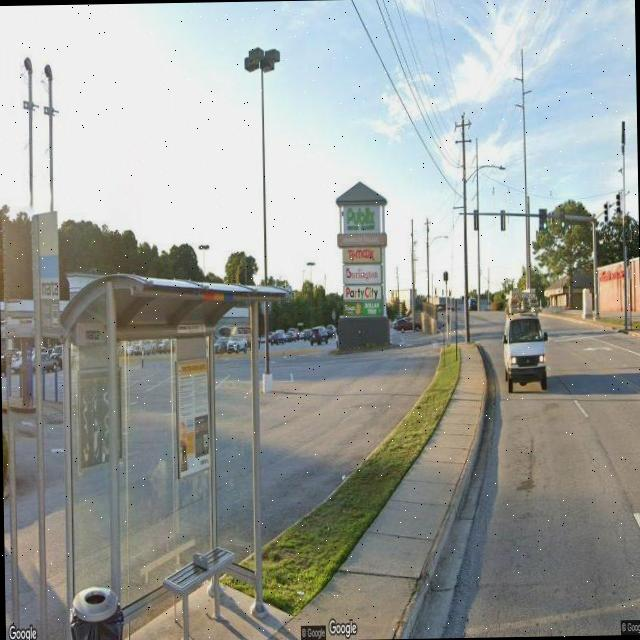seating: (161, 544, 236, 640)
shelter: (52, 267, 295, 640)
trash_can: (70, 584, 122, 640)
